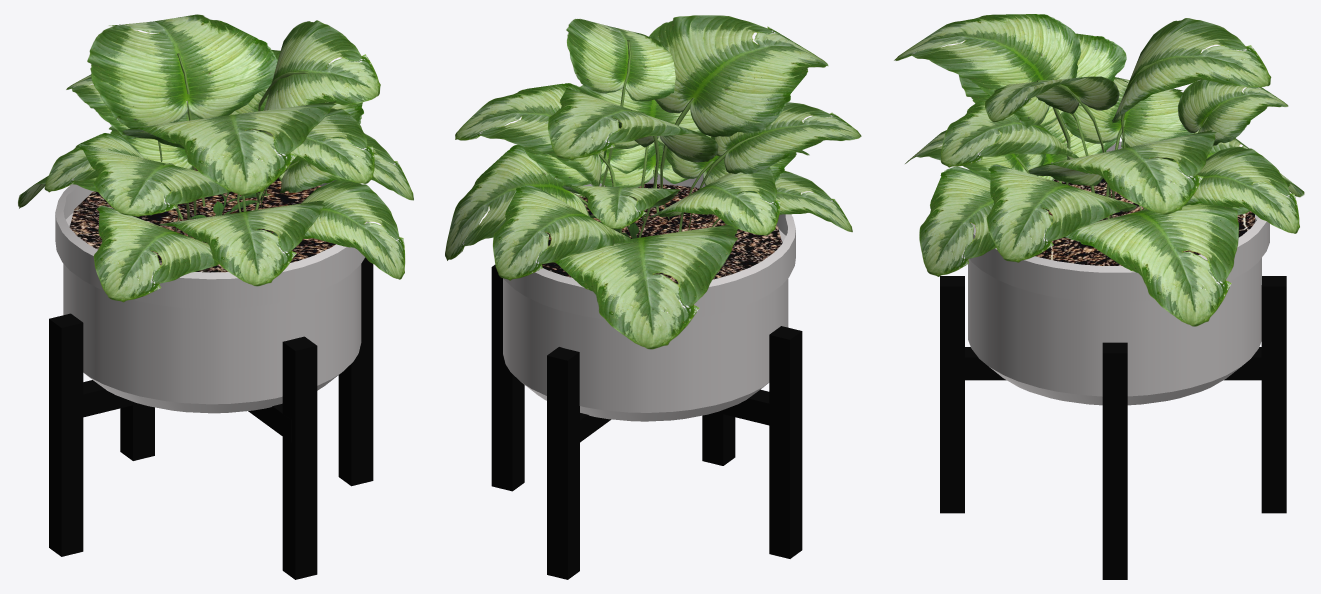
The model's file is potted_plant_wk_8.glb.
3 renders of one model, left to right at view 1: azimuth 30°, elevation 25°; view 2: azimuth 150°, elevation 25°; view 3: azimuth 270°, elevation 25°, orthographic. The views are drawn at different scales.
Visible parts, largest first — view 1: pCylinder1, pPlane18, pPlane4, pCube6, pCube1, pPlane13, pPlane8, pPlane11, pPlane15, pPlane6, pCube5, pCylinder2 (+10 smaller); view 2: pCylinder1, pPlane4, pPlane19, pCube1, pCube7, pPlane16, pPlane18, pPlane8, pPlane12, pPlane20, pPlane15, pCube5 (+11 smaller); view 3: pCylinder1, pPlane12, pPlane4, pPlane9, pPlane20, pPlane18, pCube5, pCube7, pPlane6, pCube6, pPlane16, pPlane2 (+9 smaller).
Boxes of the visible parts, x1,y1,x2,y2 form: pCylinder1: [55, 180, 369, 413]; pPlane18: [87, 14, 277, 128]; pPlane4: [122, 101, 336, 195]; pCube6: [282, 336, 317, 579]; pCube1: [49, 313, 83, 556]; pPlane13: [93, 205, 218, 302]; pPlane8: [259, 20, 380, 132]; pPlane11: [159, 200, 324, 286]; pPlane15: [78, 144, 230, 216]; pPlane6: [272, 180, 405, 279]; pCube5: [338, 257, 373, 486]; pCylinder2: [69, 168, 335, 272]; pCylinder1: [503, 166, 795, 421]; pPlane4: [649, 15, 828, 136]; pPlane19: [553, 225, 737, 349]; pCube1: [769, 326, 802, 558]; pCube7: [547, 347, 579, 579]; pPlane16: [493, 185, 638, 280]; pPlane18: [548, 87, 718, 162]; pPlane8: [566, 18, 675, 101]; pPlane12: [445, 145, 589, 260]; pPlane20: [455, 83, 606, 186]; pPlane15: [711, 102, 861, 174]; pCube5: [491, 264, 524, 491]; pCylinder1: [968, 141, 1269, 405]; pPlane12: [1065, 203, 1238, 326]; pPlane4: [894, 14, 1081, 127]; pPlane9: [986, 164, 1136, 262]; pPlane20: [1028, 130, 1216, 214]; pPlane18: [1112, 18, 1271, 123]; pCube5: [1102, 342, 1127, 579]; pCube7: [1261, 276, 1286, 513]; pPlane6: [919, 166, 1053, 276]; pCube6: [940, 276, 964, 513]; pPlane16: [1183, 147, 1299, 233]; pPlane2: [940, 94, 1087, 173].
Size of the model in its own units: 47.7 by 62.9 by 49.78.
Materials: 6 (3 with a texture image).
